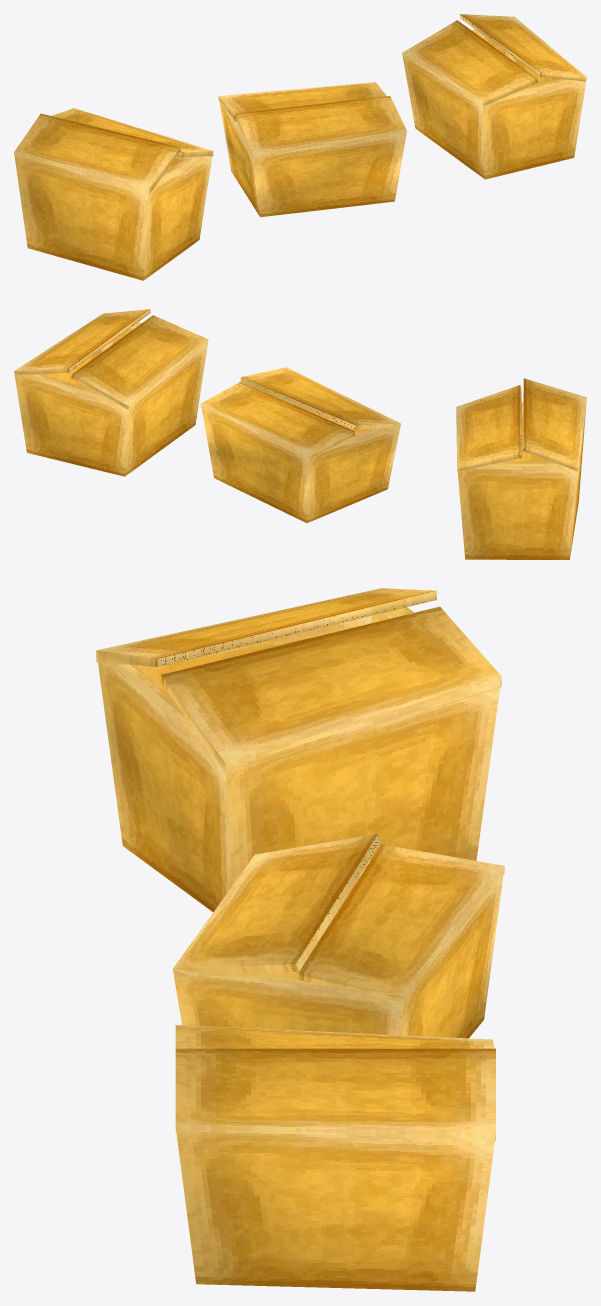
Rendered from o-dan2.glb.
The picture shows the model from 3 angles, top to bottom: view 1: azimuth 30°, elevation 25°; view 2: azimuth 150°, elevation 25°; view 3: azimuth 270°, elevation 25°; orthographic projection. The views are drawn at different scales.
Parts seen in each view (by area): view 1: o_dan2; view 2: o_dan2; view 3: o_dan2.
Boxes of the visible parts, x1,y1,x2,y2 form: o_dan2: [14, 14, 586, 280]; o_dan2: [14, 309, 586, 559]; o_dan2: [96, 588, 504, 1291].
Bounding box in the file's own units: 416 × 87 × 139.
1 material, 1 textured.
